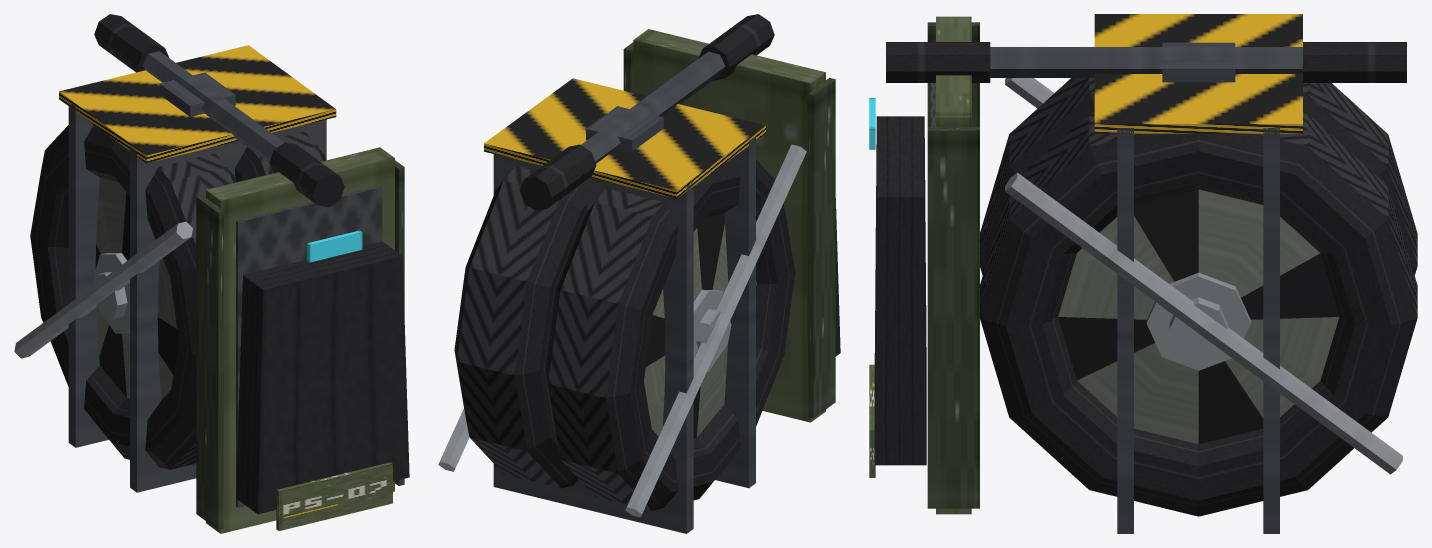
The model's file is pod_scooter_folded.fbx.
3 views of the same model, side by side, from view 1: azimuth 30°, elevation 25°; view 2: azimuth 150°, elevation 25°; view 3: azimuth 270°, elevation 25° (orthographic). The views are drawn at different scales.
Visible parts, largest first — view 1: pod_scooter_folded; view 2: pod_scooter_folded; view 3: pod_scooter_folded.
Part boxes in pixels (x1,y1,x2,y2): pod_scooter_folded: (14,14,409,533); pod_scooter_folded: (438,14,840,533); pod_scooter_folded: (869,14,1417,533).
Bounding box in the file's own units: 26.4 × 46.2 × 52.6.
1 material, 1 textured.
